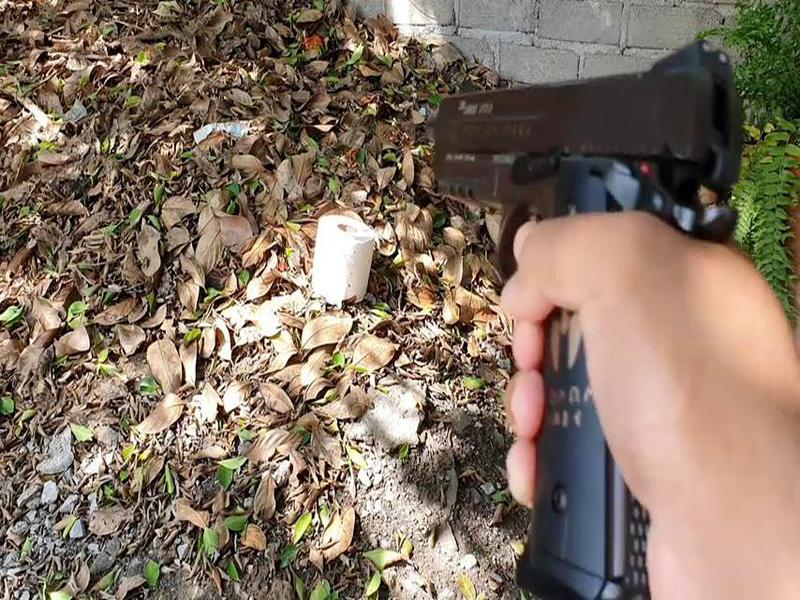Pistola: (405, 53, 746, 600)
